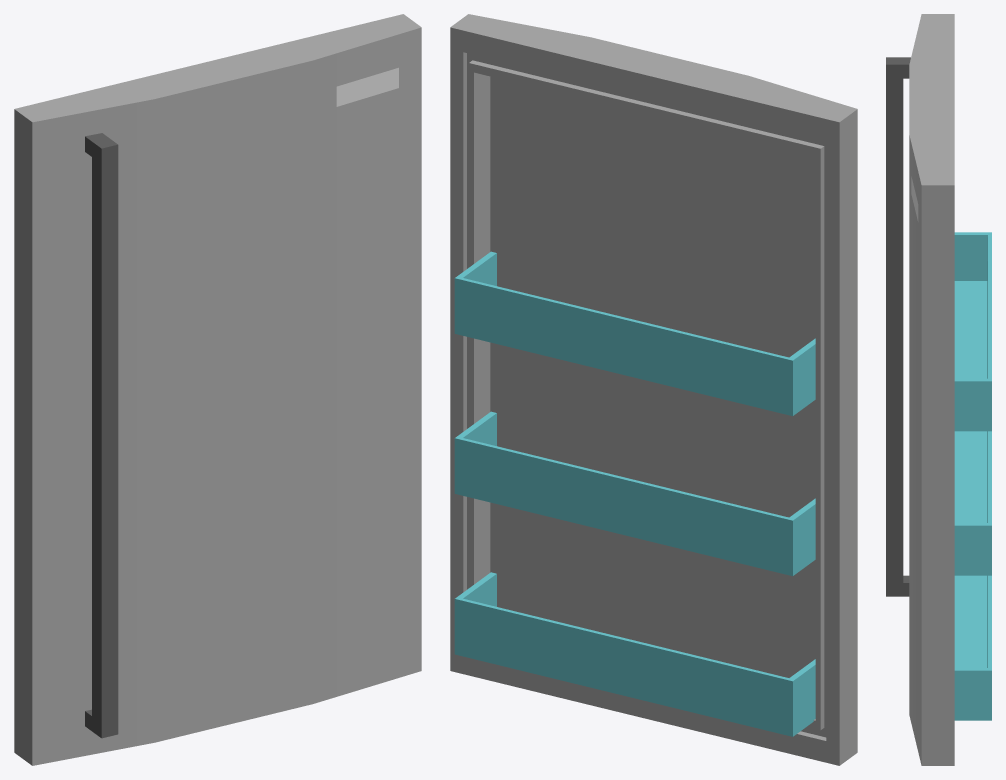
File: Refrigerador_Puerta01.fbx
3 renders of one model, left to right at view 1: azimuth 30°, elevation 25°; view 2: azimuth 150°, elevation 25°; view 3: azimuth 270°, elevation 25°, orthographic. The views are drawn at different scales.
Parts seen in each view (by area): view 1: Refrigerador_Puerta01; view 2: Refrigerador_Puerta01; view 3: Refrigerador_Puerta01.
Part boxes in pixels (x1,y1,x2,y2): Refrigerador_Puerta01: (14, 14, 421, 765); Refrigerador_Puerta01: (450, 14, 857, 765); Refrigerador_Puerta01: (886, 14, 991, 765).
Bounding box in the file's own units: 82.34 × 130 × 21.51.
